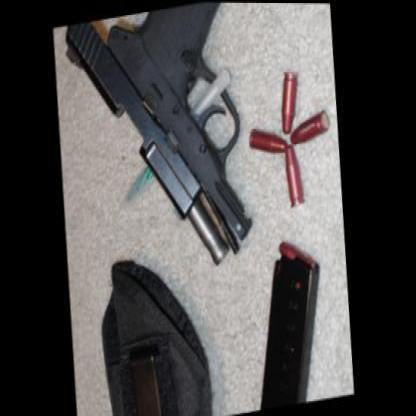pistol: (58, 1, 260, 289)
